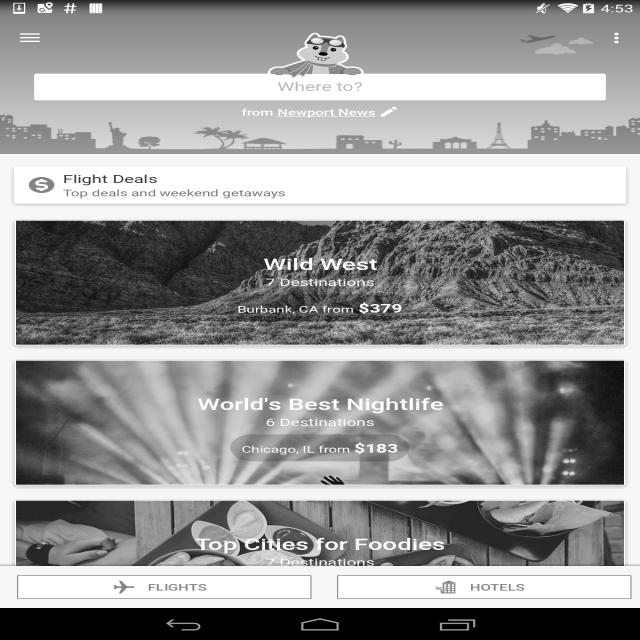EditText: (264, 73, 640, 99)
ImageButton: (0, 17, 60, 59)
ImageView: (16, 221, 624, 354), (16, 361, 624, 494), (16, 501, 624, 634), (0, 33, 640, 80), (0, 114, 640, 156), (520, 35, 594, 55), (597, 22, 640, 54), (29, 177, 54, 193)
TextView: (16, 253, 624, 275), (16, 393, 624, 415), (16, 533, 624, 555), (16, 275, 624, 289), (16, 415, 624, 429), (16, 555, 624, 569), (63, 186, 286, 199), (111, 575, 207, 599), (434, 575, 524, 599), (241, 106, 398, 118), (63, 171, 158, 186), (237, 303, 354, 315), (240, 583, 352, 595), (241, 443, 350, 455), (358, 300, 403, 316), (354, 440, 399, 456), (356, 580, 400, 596)
